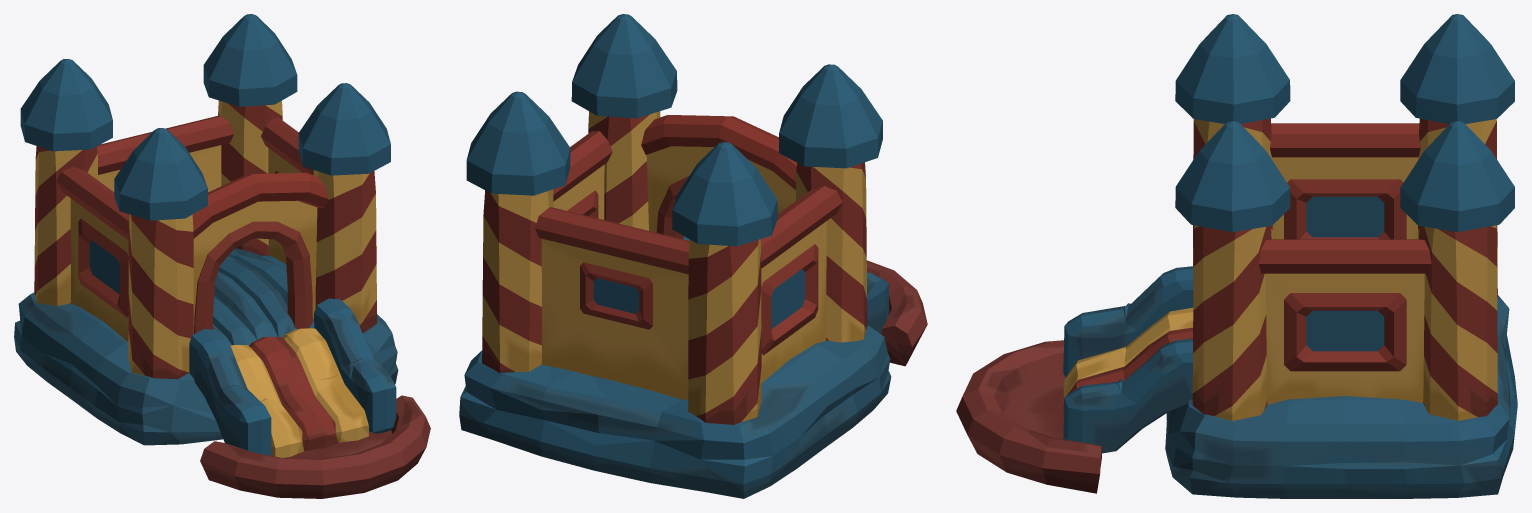
The model's file is bouncy-castle.glb.
3 views of the same model, side by side, from view 1: azimuth 30°, elevation 25°; view 2: azimuth 150°, elevation 25°; view 3: azimuth 270°, elevation 25° (orthographic). The views are drawn at different scales.
Visible parts, largest first — view 1: SM_Prop_Bouncy_Castle_01; view 2: SM_Prop_Bouncy_Castle_01; view 3: SM_Prop_Bouncy_Castle_01.
Part boxes in pixels (x1,y1,x2,y2): SM_Prop_Bouncy_Castle_01: [14, 14, 430, 498]; SM_Prop_Bouncy_Castle_01: [459, 14, 927, 498]; SM_Prop_Bouncy_Castle_01: [956, 14, 1517, 498].
Bounding box in the file's own units: 538 × 576 × 799.
Materials: 1 (1 with a texture image).
